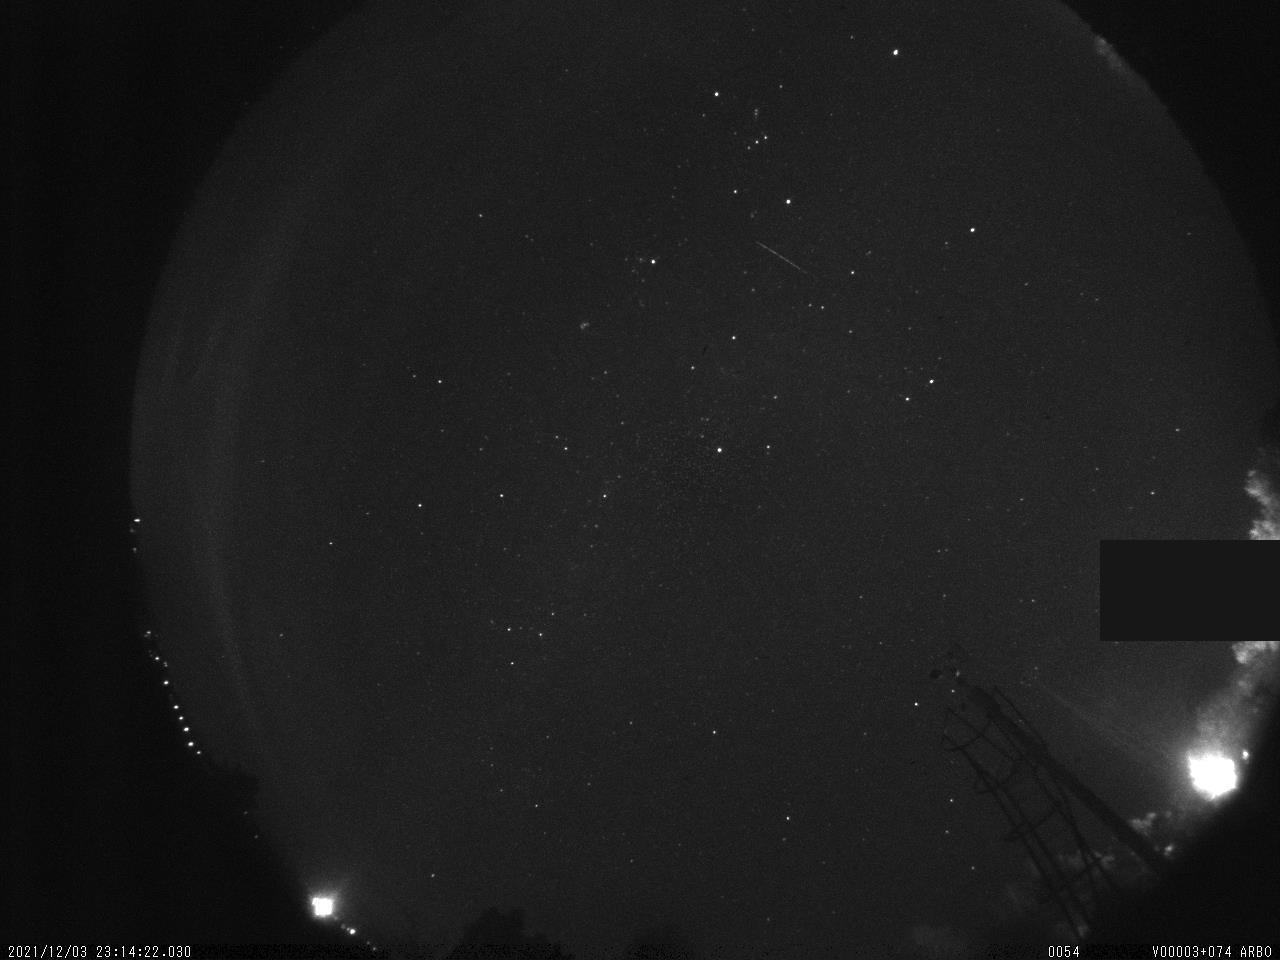Meteor: (749, 232, 821, 284)
